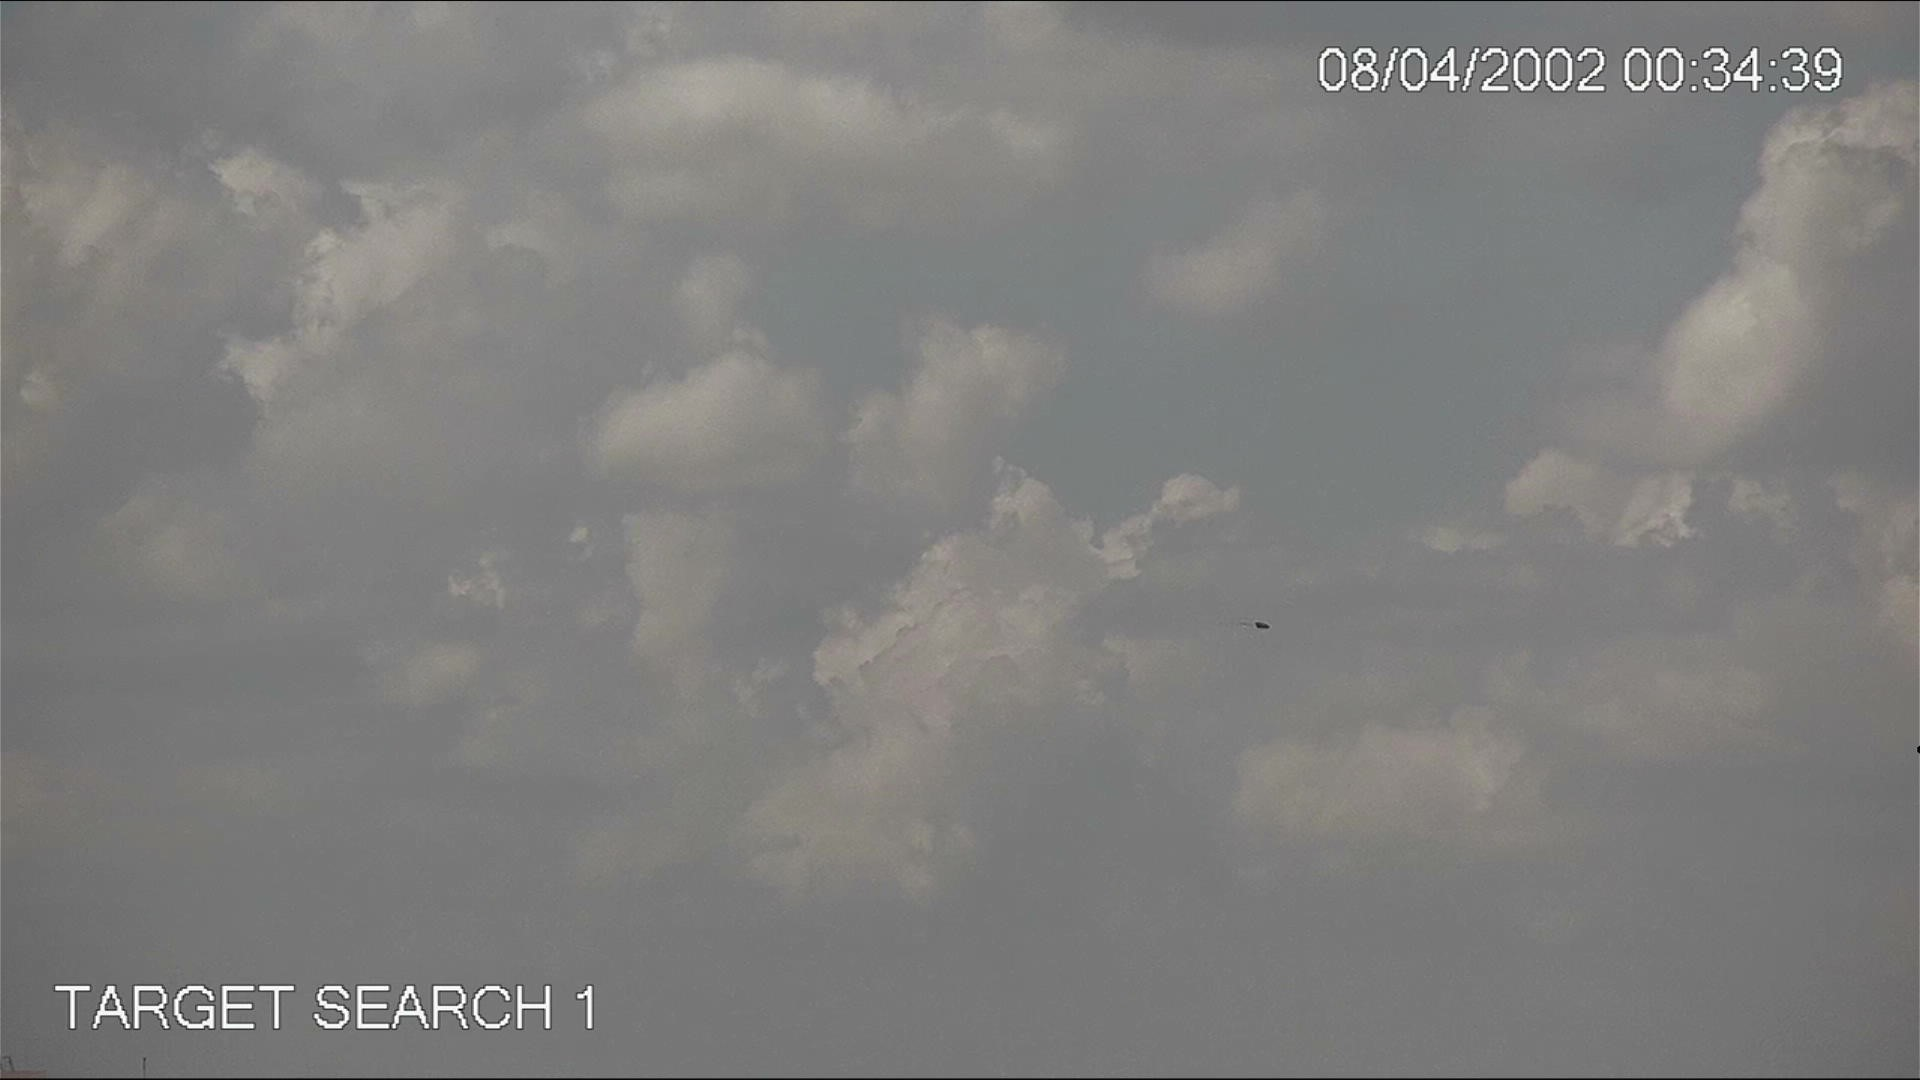SU_30: (1224, 613, 1275, 638)
